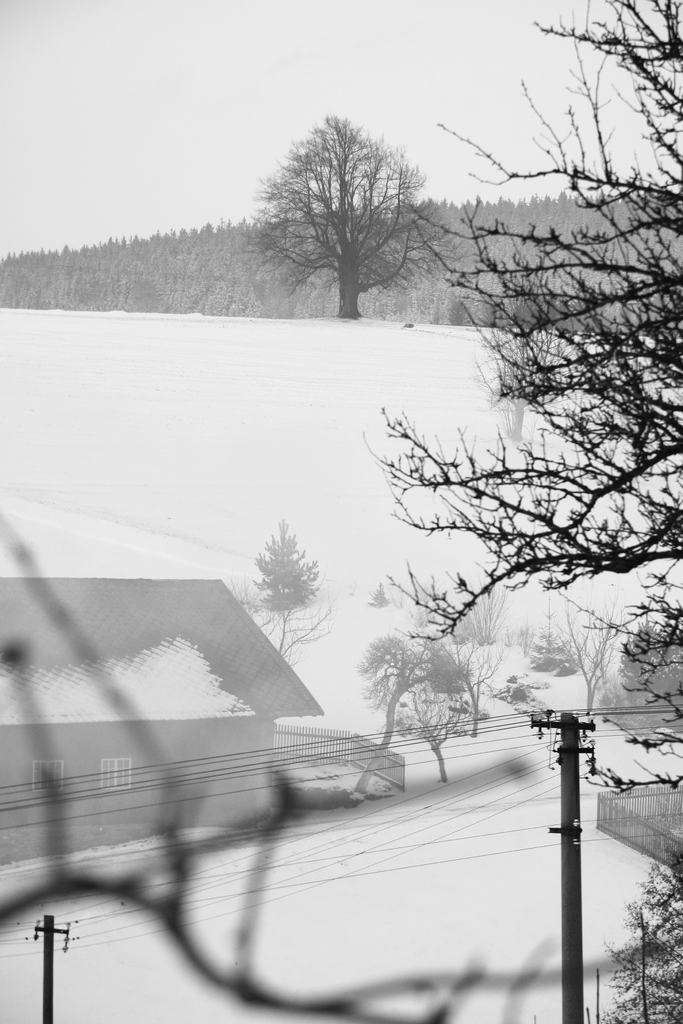Tree: (362, 0, 682, 576), (235, 111, 431, 283), (348, 640, 493, 800), (231, 520, 341, 650), (604, 846, 682, 1023), (613, 609, 682, 721)
